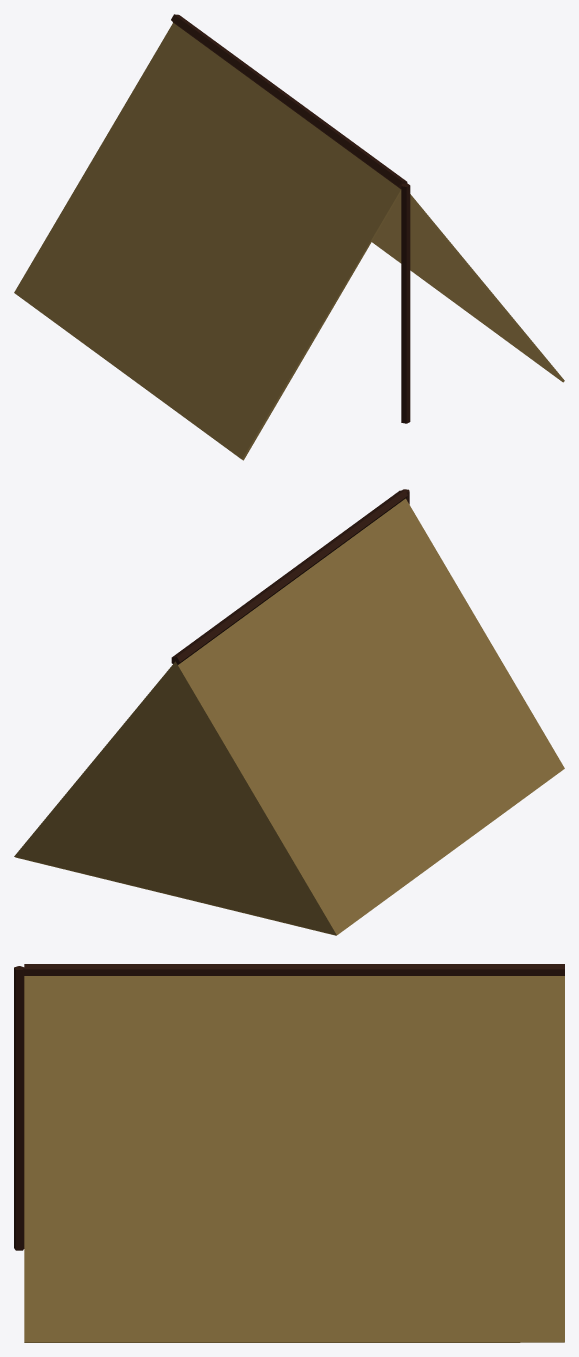
The model's file is Extra_Tent_01.fbx.
3 views of the same model, one above another, from view 1: azimuth 30°, elevation 25°; view 2: azimuth 150°, elevation 25°; view 3: azimuth 270°, elevation 25° (orthographic). The views are drawn at different scales.
Visible parts, largest first — view 1: Extra_Tent_01_Mesh; view 2: Extra_Tent_01_Mesh; view 3: Extra_Tent_01_Mesh.
Part boxes in pixels (box(x1,y1,x2,y2)): Extra_Tent_01_Mesh: box(14, 14, 564, 460); Extra_Tent_01_Mesh: box(14, 489, 564, 935); Extra_Tent_01_Mesh: box(14, 964, 564, 1342).
Size of the model in its own units: 1.8 by 1.28 by 2.24.
1 material, 1 textured.
